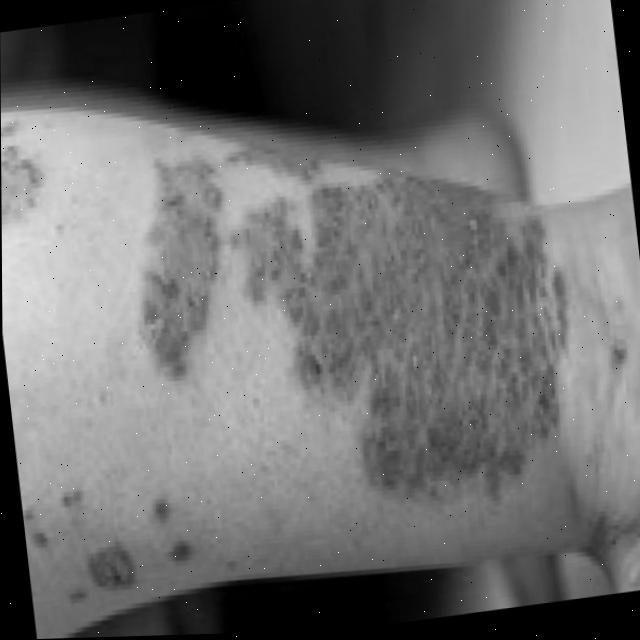Eczema: (117, 103, 588, 544), (29, 481, 201, 601), (1, 117, 60, 228)
